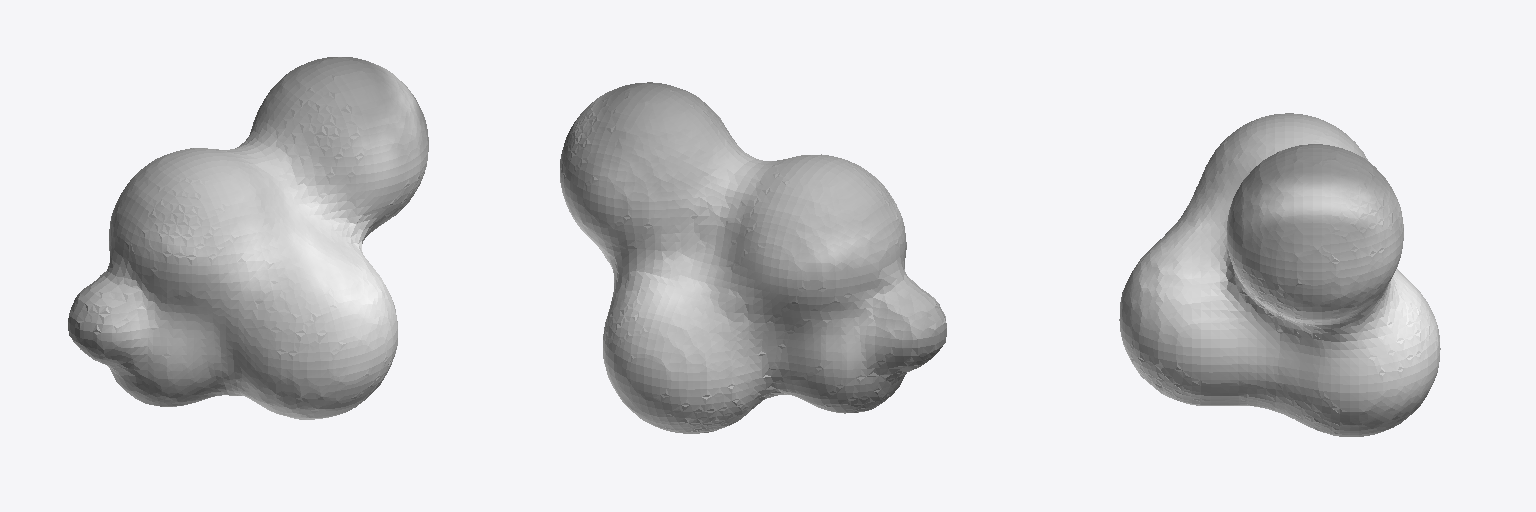
The picture shows the model from 3 angles: view 1: azimuth 30°, elevation 25°; view 2: azimuth 150°, elevation 25°; view 3: azimuth 270°, elevation 25°; orthographic projection.
Visible parts, largest first — view 1: humo:Mesh; view 2: humo:Mesh; view 3: humo:Mesh.
Part boxes in pixels (x1,y1,x2,y2): humo:Mesh: (68, 57, 428, 419); humo:Mesh: (560, 82, 946, 433); humo:Mesh: (1119, 113, 1440, 436).
Bounding box in the file's own units: 1.12 × 0.921 × 0.8738.
Materials: 1 (1 with a texture image).